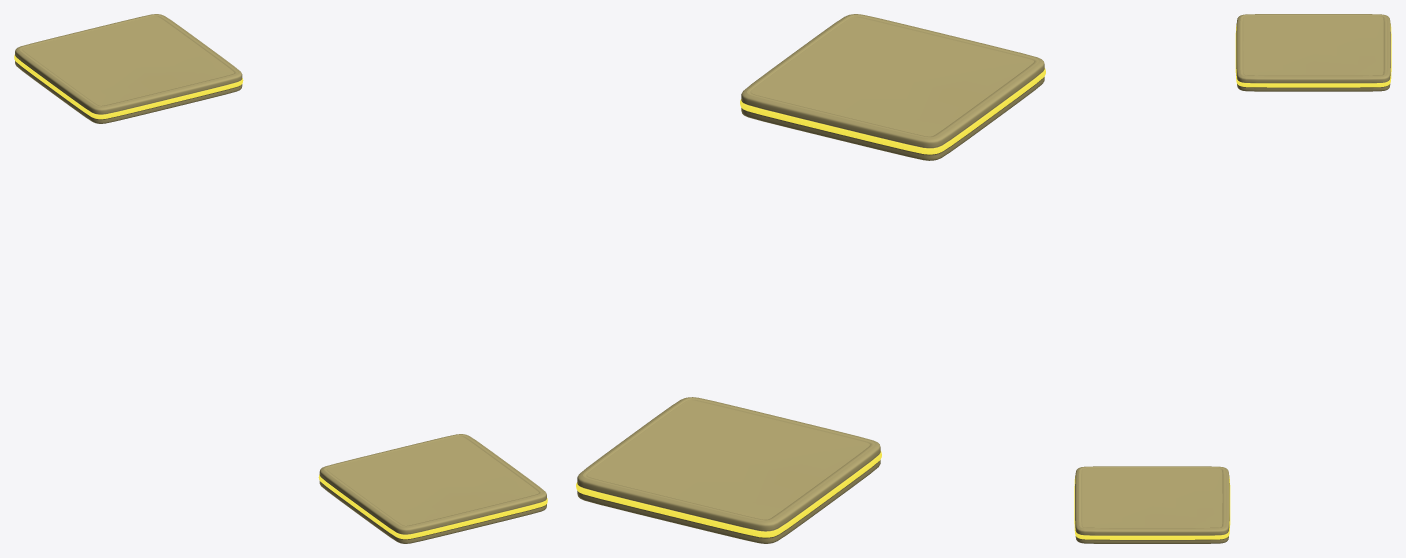
3 renders of one model, left to right at view 1: azimuth 30°, elevation 25°; view 2: azimuth 150°, elevation 25°; view 3: azimuth 270°, elevation 25°, orthographic. The views are drawn at different scales.
Parts seen in each view (by area): view 1: BouncyPlatform, BouncyPlatform.001; view 2: BouncyPlatform, BouncyPlatform.001; view 3: BouncyPlatform, BouncyPlatform.001.
Part boxes in pixels (<box>): BouncyPlatform: <box>318,434,547,543</box>; BouncyPlatform.001: <box>14,14,243,123</box>; BouncyPlatform: <box>576,397,881,543</box>; BouncyPlatform.001: <box>740,14,1045,160</box>; BouncyPlatform: <box>1074,466,1230,543</box>; BouncyPlatform.001: <box>1235,14,1391,91</box>.
Bounding box in the file's own units: 16.64 × 18.33 × 14.08.
